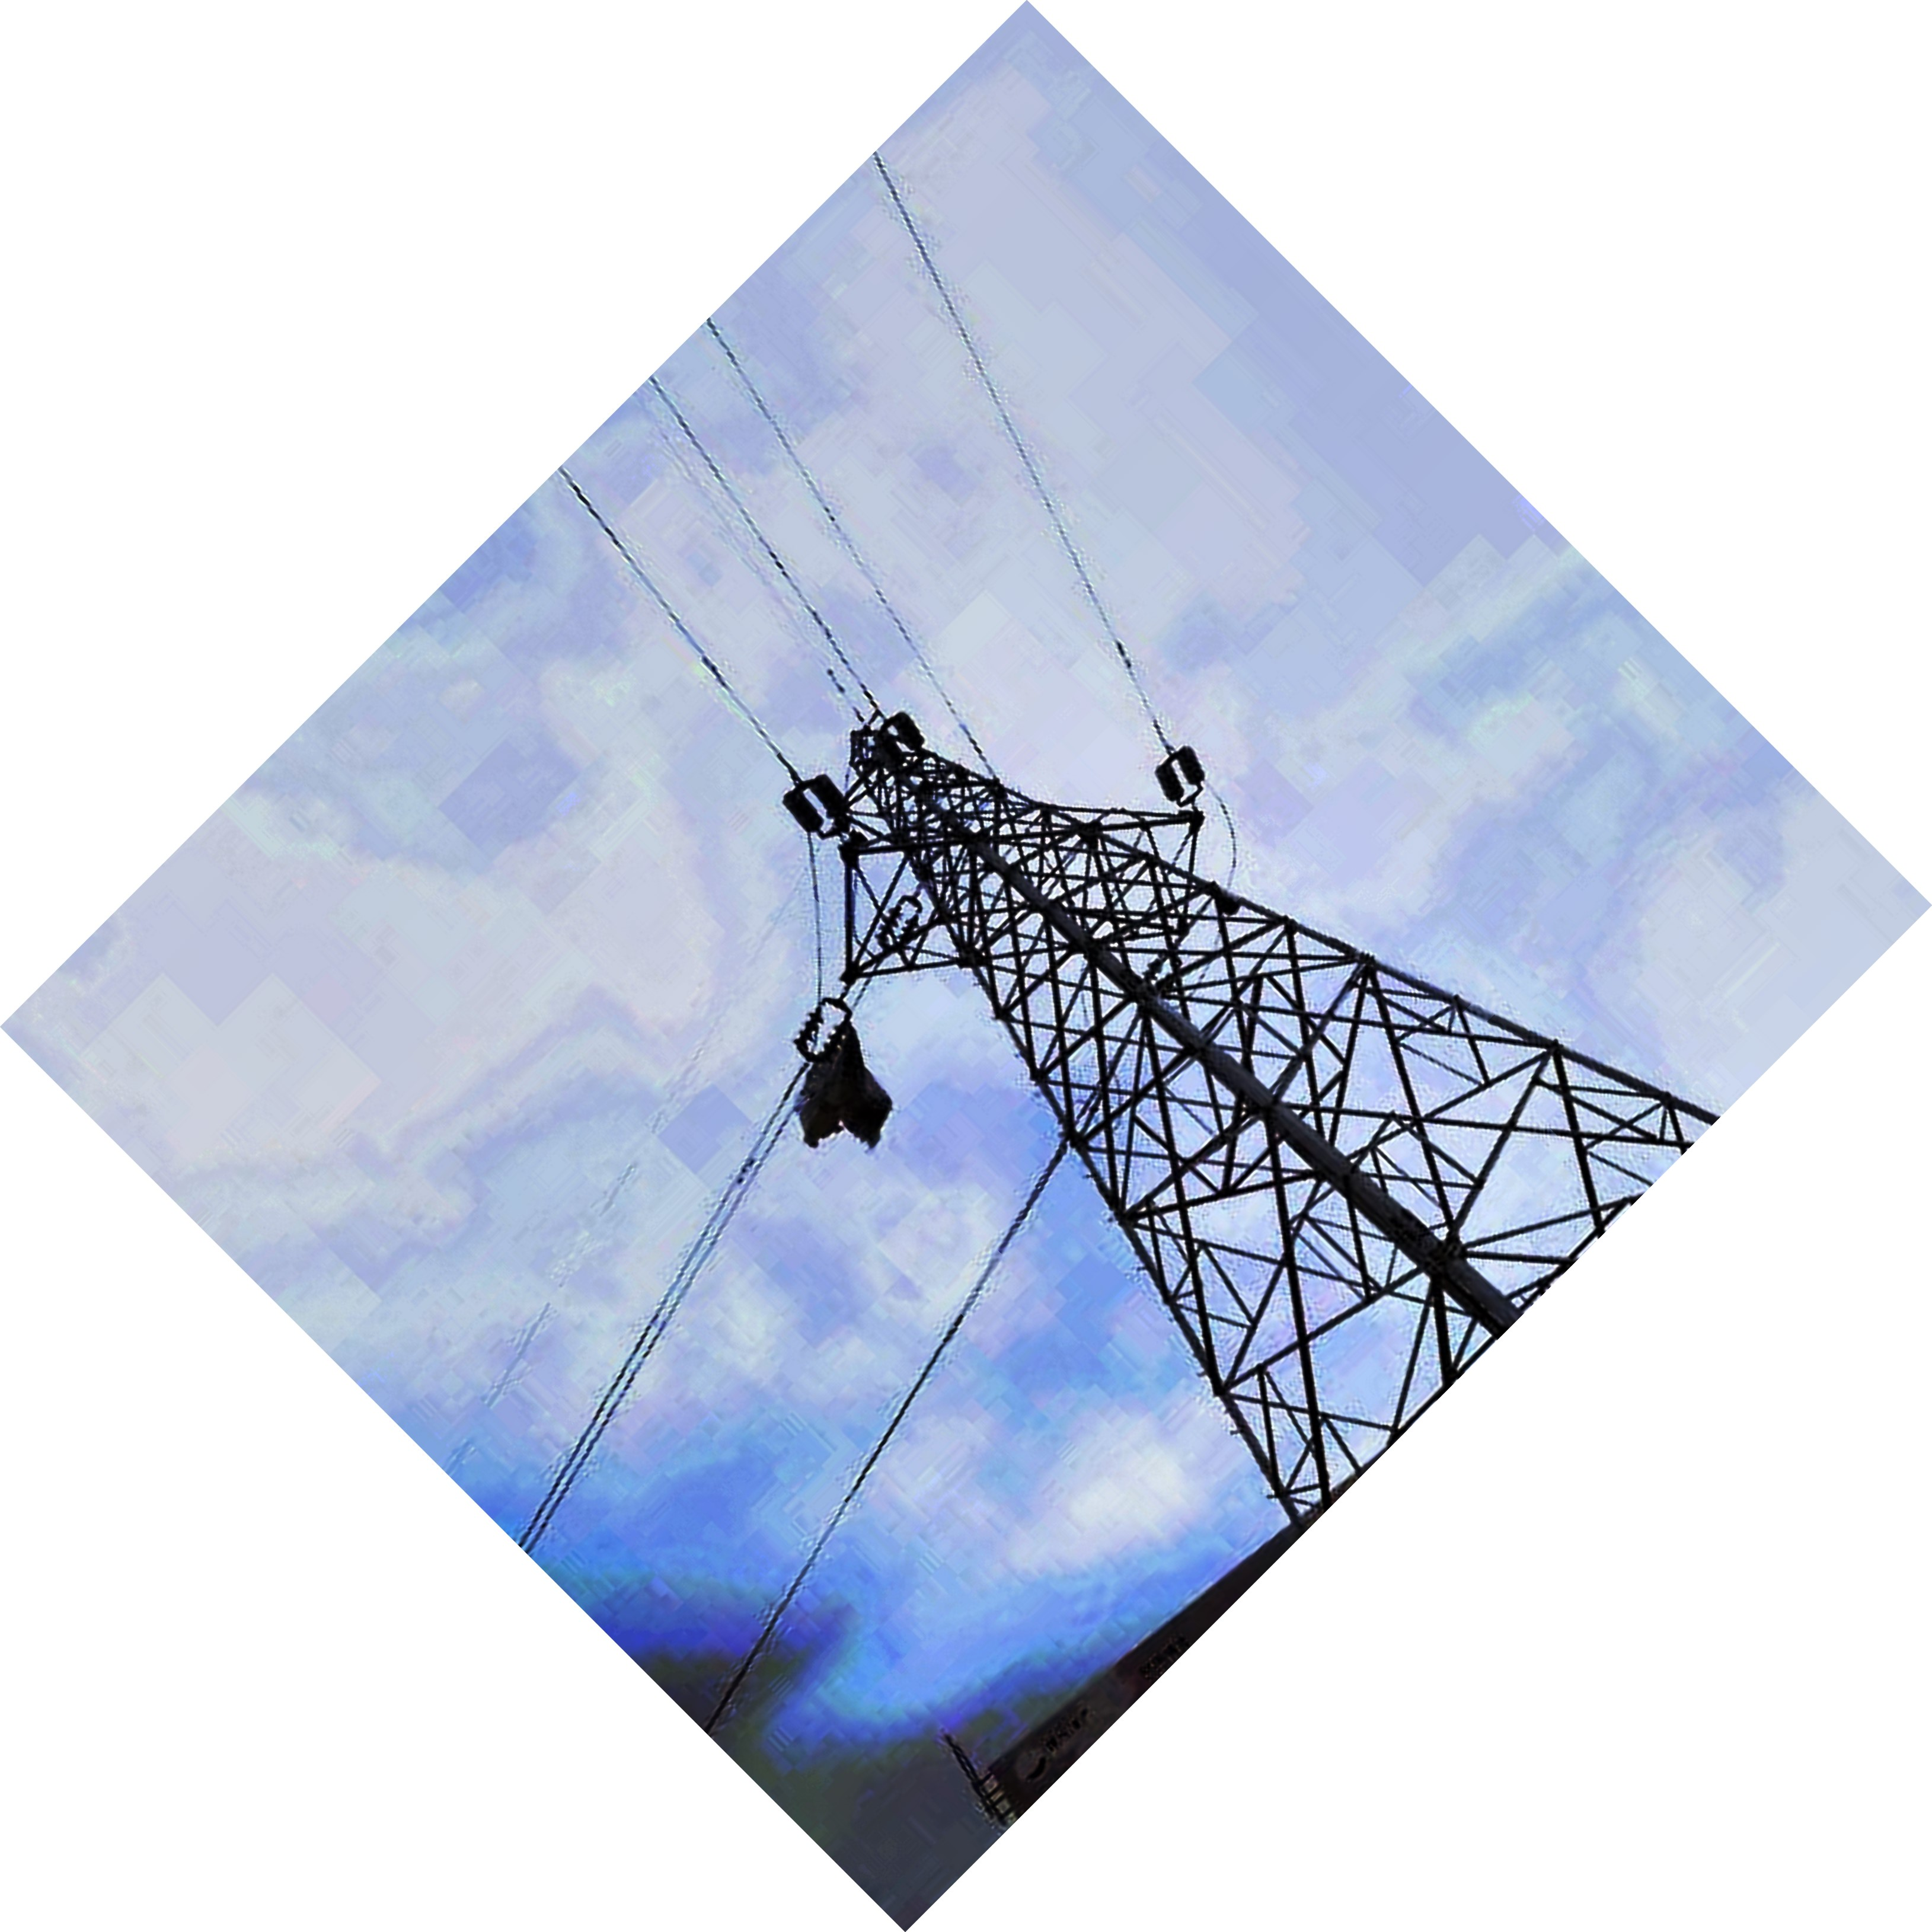wire foreign body: (755, 1016, 922, 1161)
